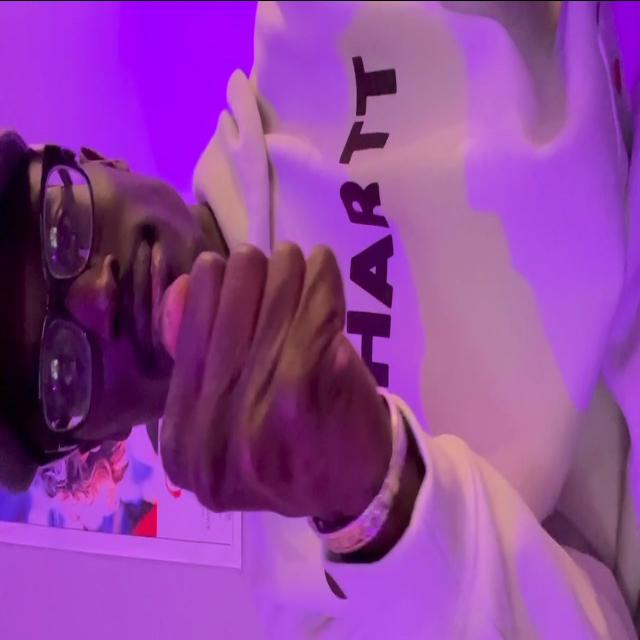Rock: (157, 244, 382, 514)
